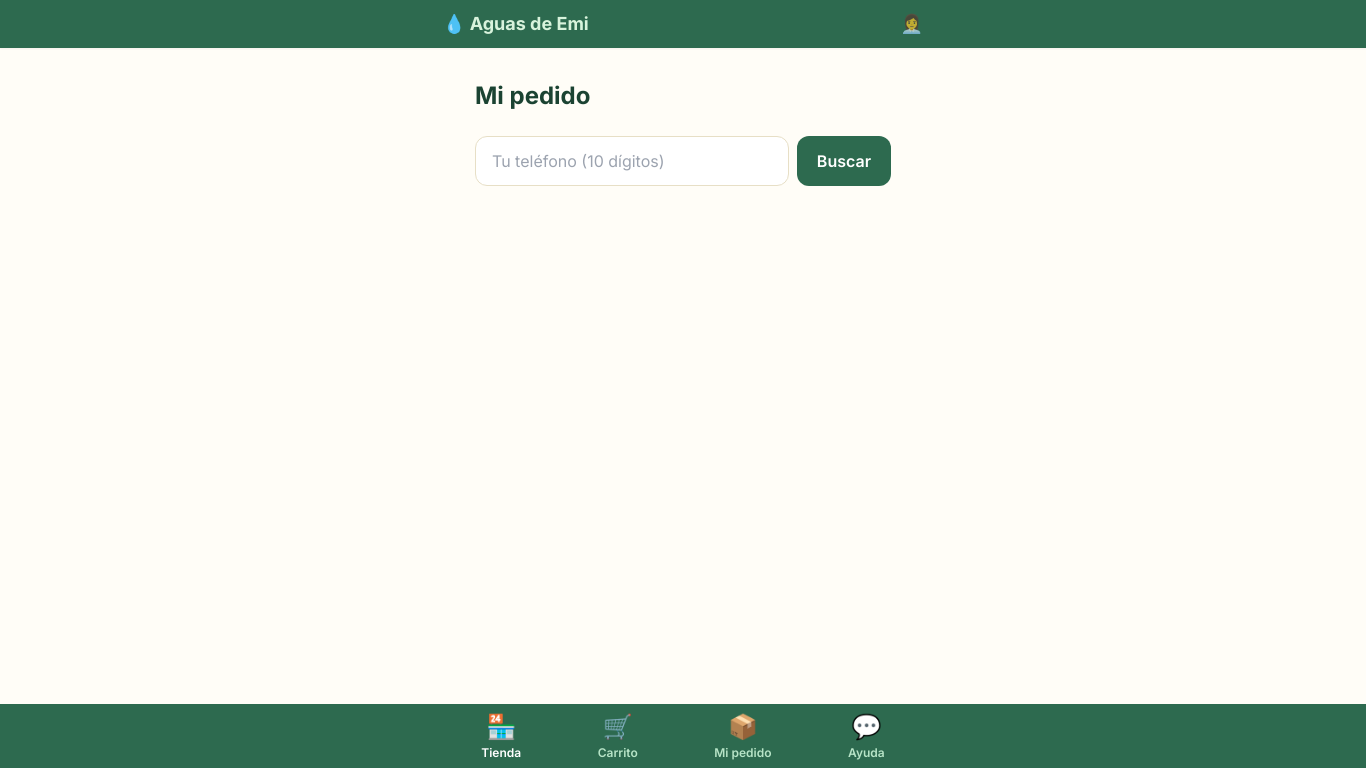
MyOrdersPage › shows empty state when no active orders
In the field with placeholder "Tu teléfono (10 dígitos)": (632, 161) [475,136,789,186], type "5512345678"
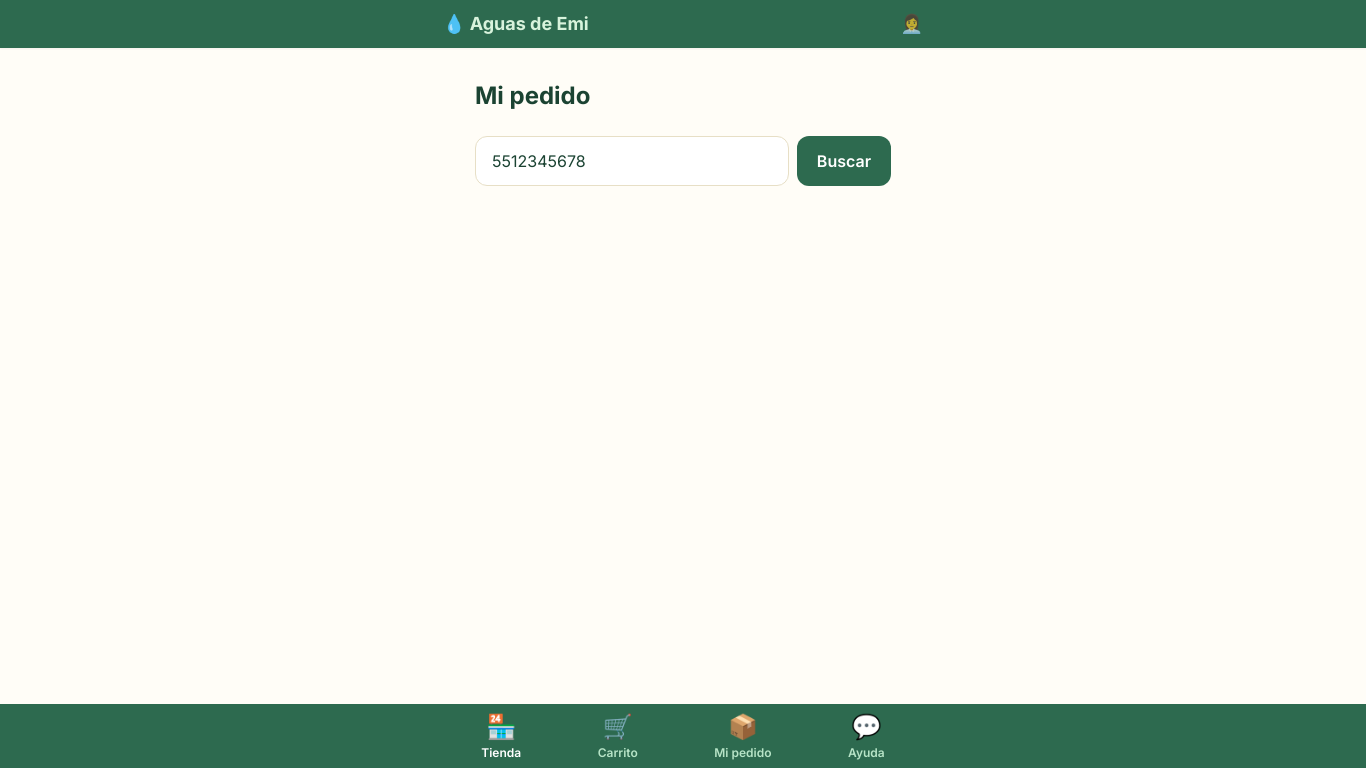
Click the button "Buscar": click(844, 161) [797,136,891,186]
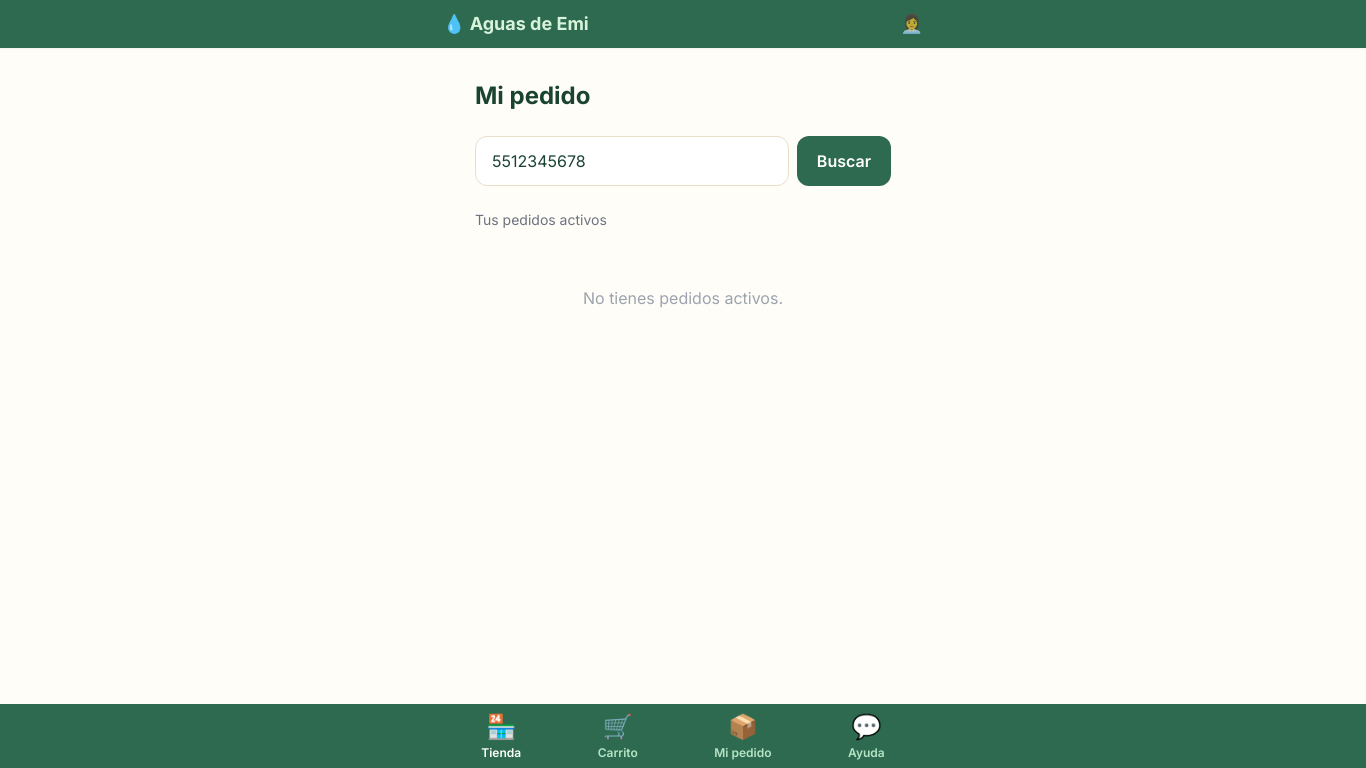
Now the text "No tienes pedidos activos." is shown, box [583,288,783,308]
